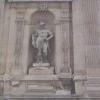Statue: (25, 13, 68, 77)
